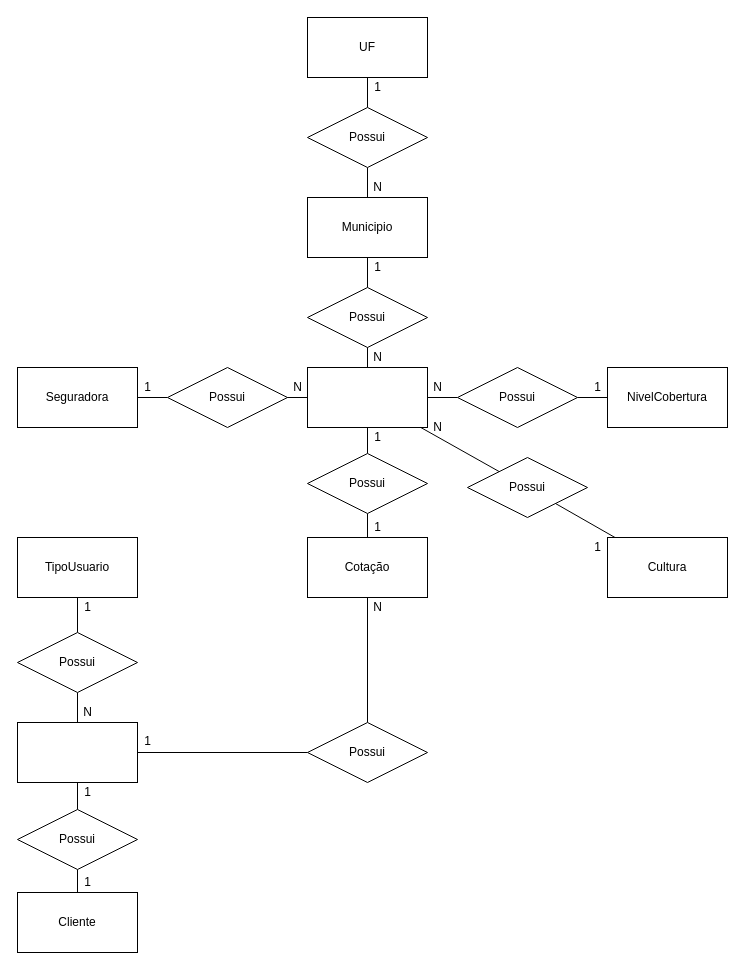
The diagram is 745 pixels wide and 970 high, and some of its shapes have lost their labels. Each missing label, with the centre of its shape:
"Plantio" goes at point (367, 397).
"Usuario" goes at point (77, 752).
